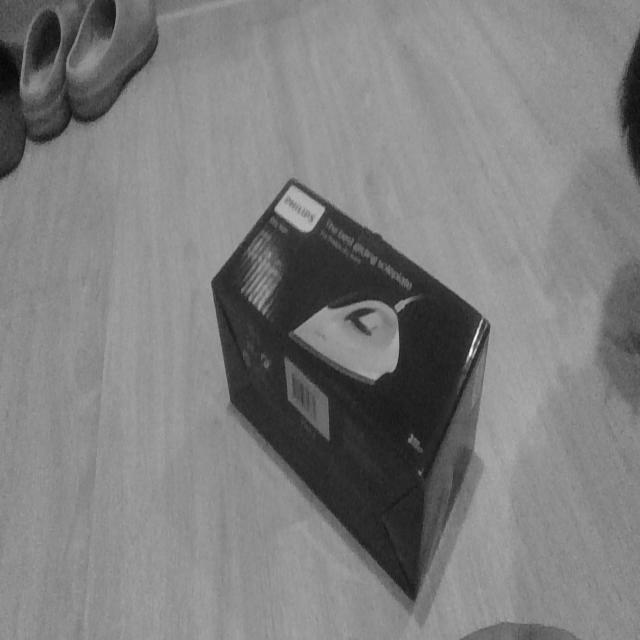IRON: (208, 174, 492, 607)
